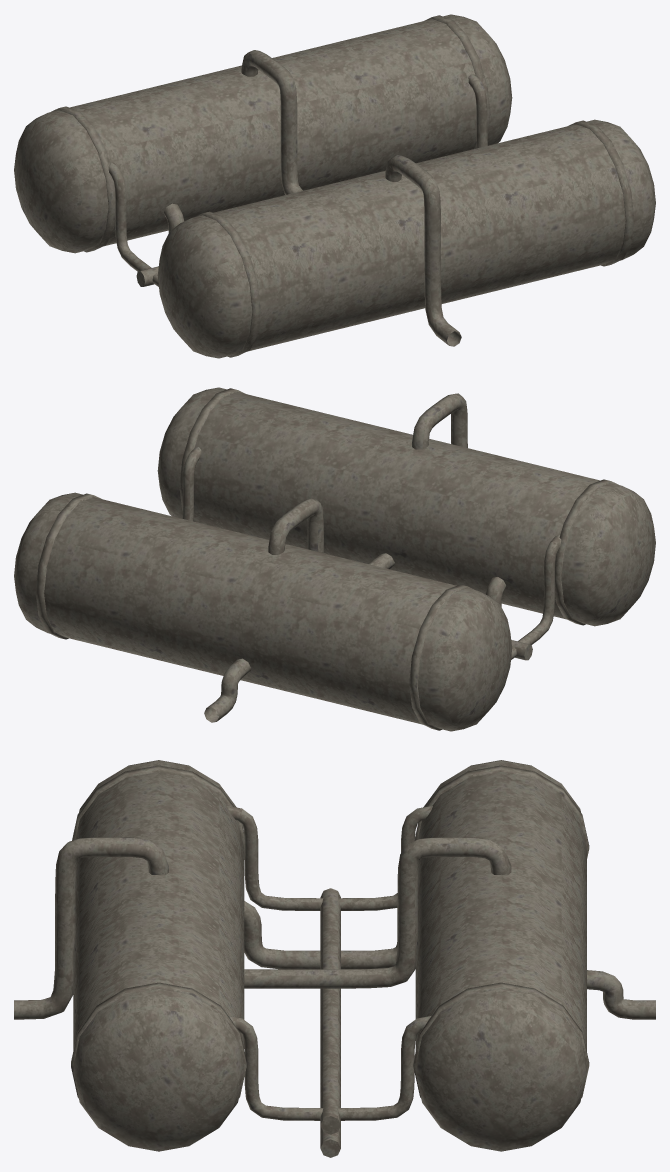
Rendered from refinery_desalter.glb.
The picture shows the model from 3 angles, top to bottom: view 1: azimuth 30°, elevation 25°; view 2: azimuth 150°, elevation 25°; view 3: azimuth 270°, elevation 25°; orthographic projection. The views are drawn at different scales.
Visible parts, largest first — view 1: Props.refinery_desalter; view 2: Props.refinery_desalter; view 3: Props.refinery_desalter.
Part boxes in pixels (x1=…): Props.refinery_desalter: x1=14, y1=14, x2=655, y2=358; Props.refinery_desalter: x1=14, y1=387, x2=655, y2=731; Props.refinery_desalter: x1=14, y1=760, x2=655, y2=1157.
Size of the model in its own units: 7.48 by 2.54 by 7.5.
Materials: 1 (1 with a texture image).
